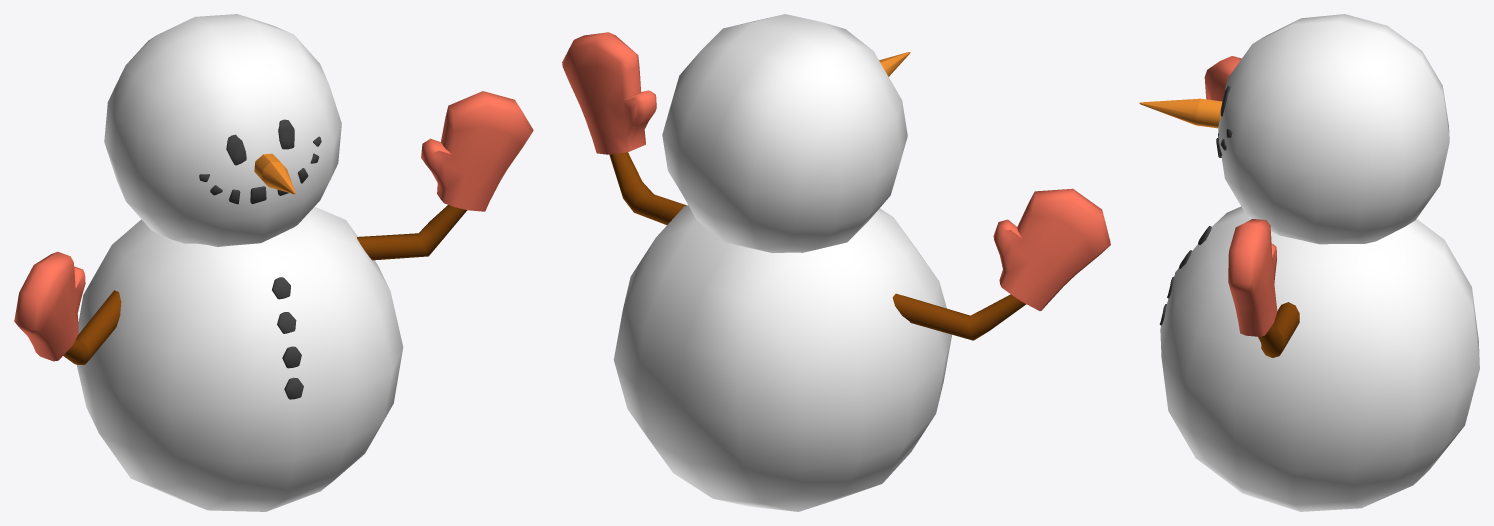
Rendered from Snowman_2_Christmas.fbx.
The picture shows the model from 3 angles, left to right: view 1: azimuth 30°, elevation 25°; view 2: azimuth 150°, elevation 25°; view 3: azimuth 270°, elevation 25°; orthographic projection.
Parts seen in each view (by area): view 1: Snowman_2_Christmas; view 2: Snowman_2_Christmas; view 3: Snowman_2_Christmas.
Part boxes in pixels (x1,y1,x2,y2): Snowman_2_Christmas: [14, 14, 533, 511]; Snowman_2_Christmas: [562, 14, 1110, 511]; Snowman_2_Christmas: [1139, 14, 1479, 511].
Size of the model in its own units: 404 by 343 by 228.
